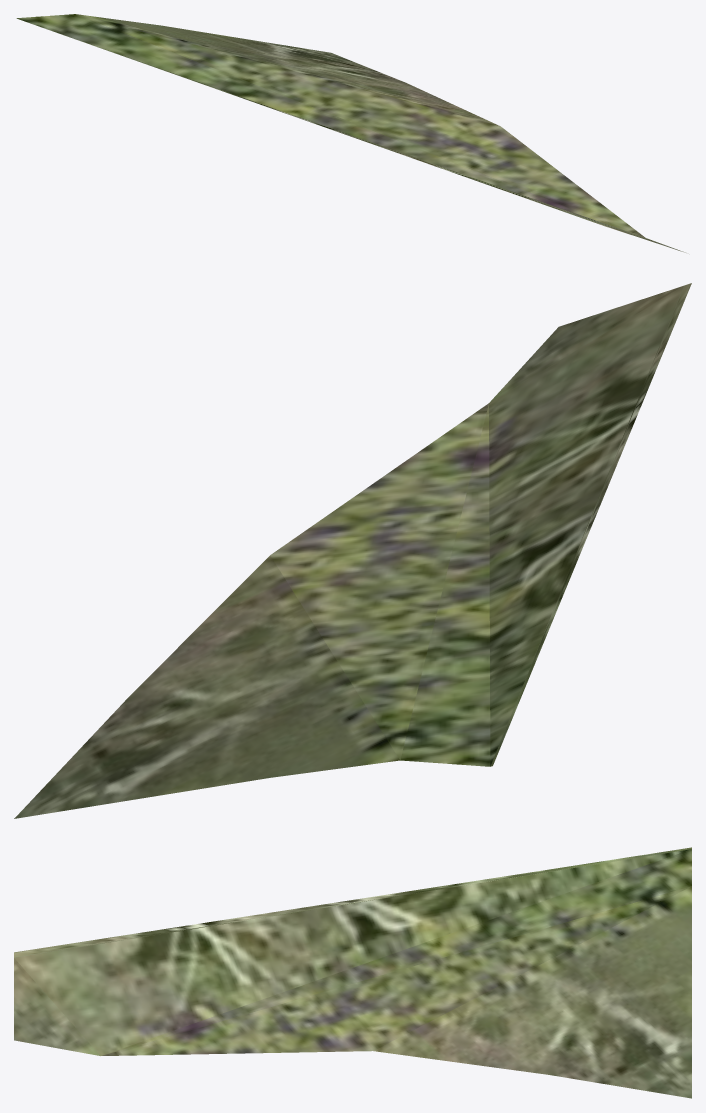
3 views of the same model, one above another, from view 1: azimuth 30°, elevation 25°; view 2: azimuth 150°, elevation 25°; view 3: azimuth 270°, elevation 25° (orthographic). The views are drawn at different scales.
Size of the model in its own units: 1.5 by 0.5074 by 2.95.
Materials: 1 (1 with a texture image).
